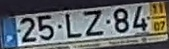2: (17, 15, 37, 43)
4: (131, 4, 148, 32)
5: (36, 14, 54, 41)
8: (111, 6, 129, 34)
L: (63, 13, 82, 39)
Z: (81, 9, 104, 36)
